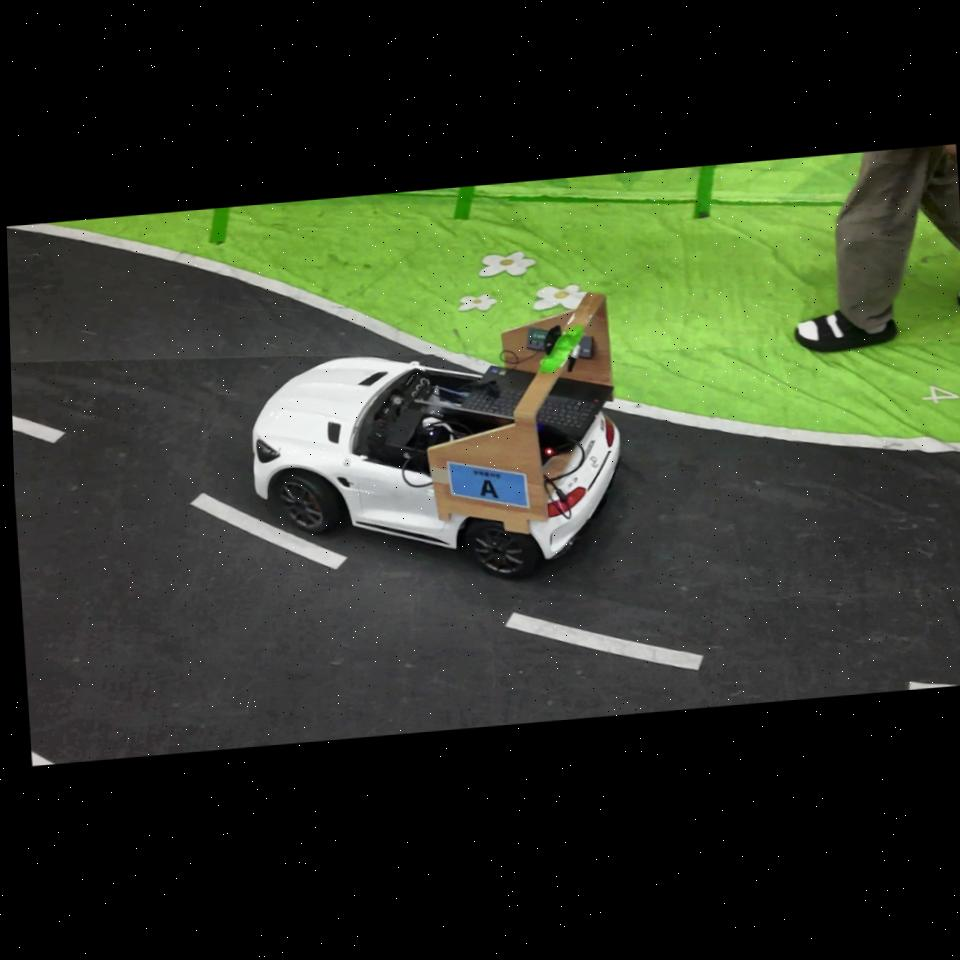broken_line: (190, 492, 348, 570), (504, 612, 704, 670), (12, 416, 66, 443), (909, 681, 960, 689)
